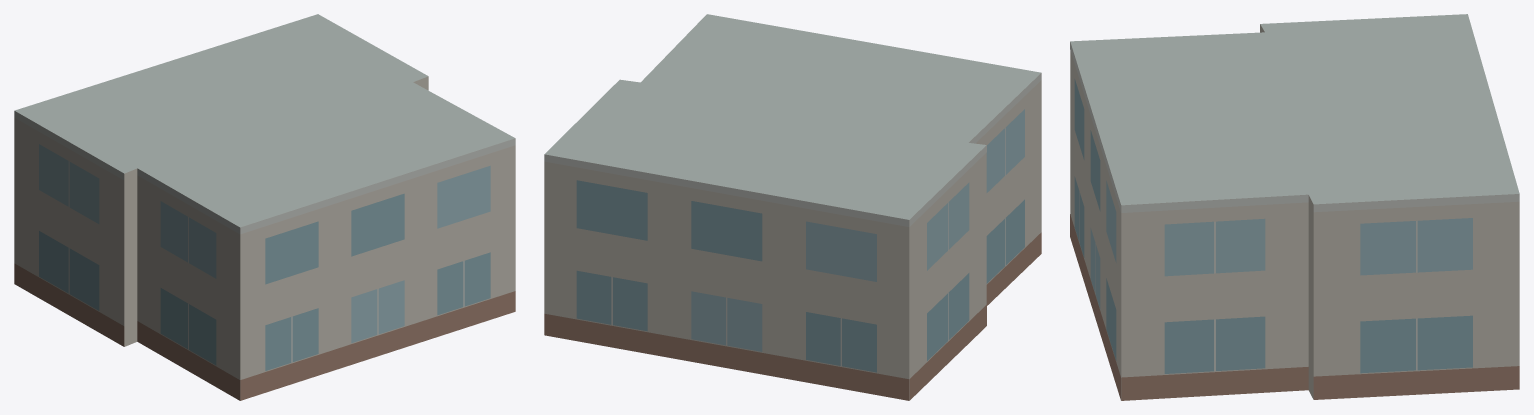
Rendered from survey-upis-32819491.glb.
3 renders of one model, left to right at view 1: azimuth 30°, elevation 25°; view 2: azimuth 150°, elevation 25°; view 3: azimuth 270°, elevation 25°, orthographic. The views are drawn at different scales.
Parts seen in each view (by area): view 1: survey-upis-32819491.tmp; view 2: survey-upis-32819491.tmp; view 3: survey-upis-32819491.tmp.
Boxes of the visible parts, left/top/right/bottom form: survey-upis-32819491.tmp: left=14, top=14, right=515, bottom=400; survey-upis-32819491.tmp: left=544, top=14, right=1041, bottom=400; survey-upis-32819491.tmp: left=1070, top=14, right=1519, bottom=400.
Size of the model in its own units: 12.81 by 6.1 by 12.72.
